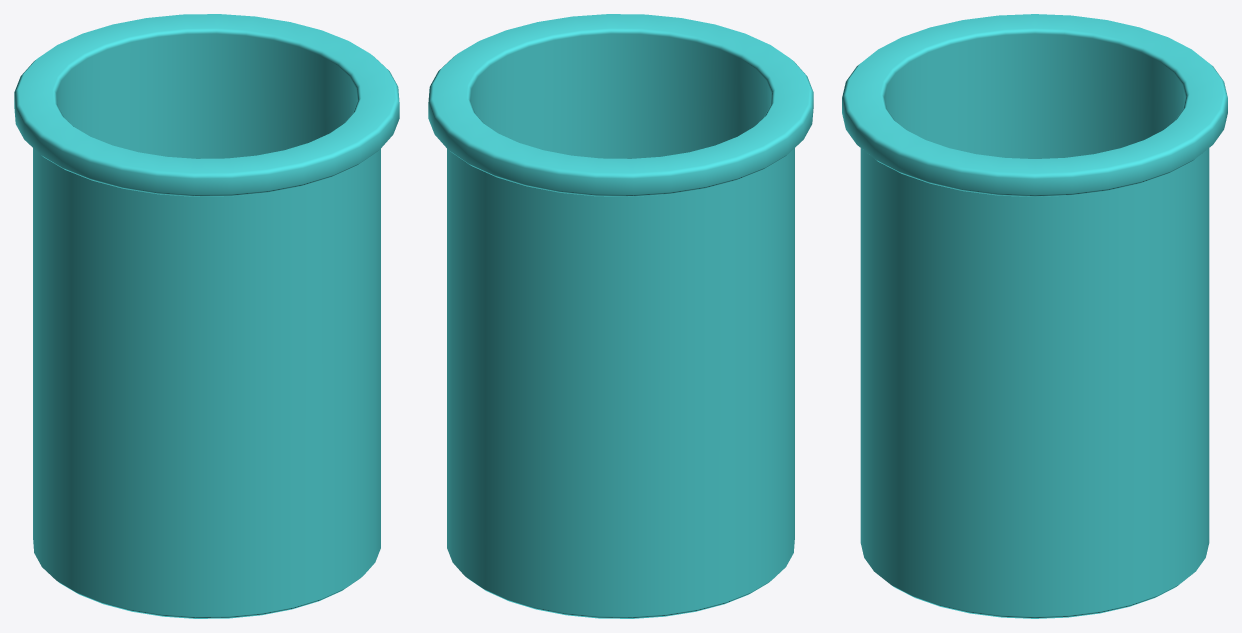
File: Chemical_20.02.fbx
3 renders of one model, left to right at view 1: azimuth 30°, elevation 25°; view 2: azimuth 150°, elevation 25°; view 3: azimuth 270°, elevation 25°, orthographic.
Parts seen in each view (by area): view 1: Circle.002; view 2: Circle.002; view 3: Circle.002.
Boxes of the visible parts, x1=… form: Circle.002: x1=14, y1=14, x2=399, y2=618; Circle.002: x1=428, y1=14, x2=813, y2=618; Circle.002: x1=842, y1=14, x2=1227, y2=618.
Bounding box in the file's own units: 16.27 × 21.11 × 16.27.
